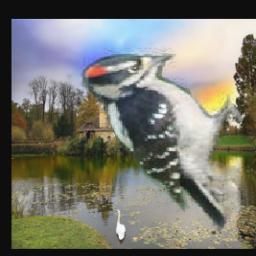Woodpecker: (80, 49, 240, 233)
